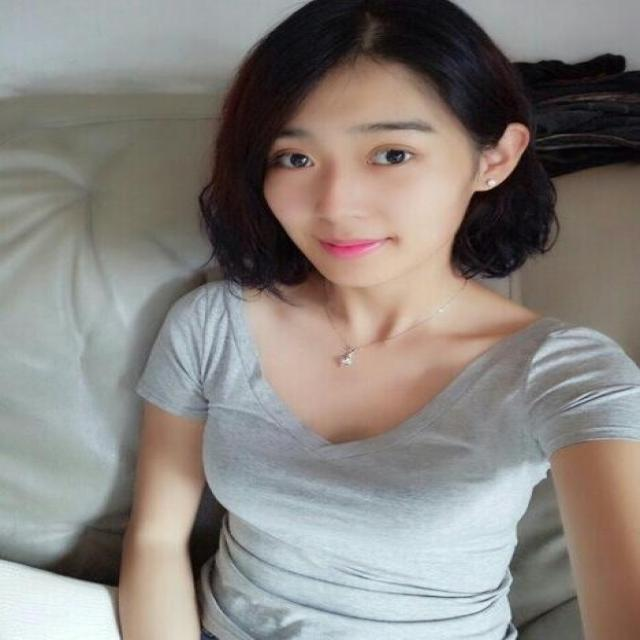short sleeve top: (131, 286, 637, 637)
